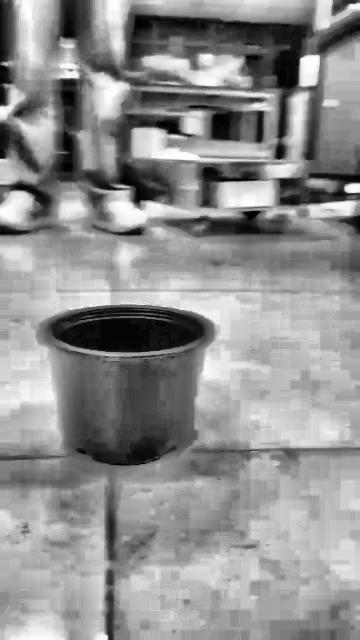pot: (42, 304, 209, 466)
